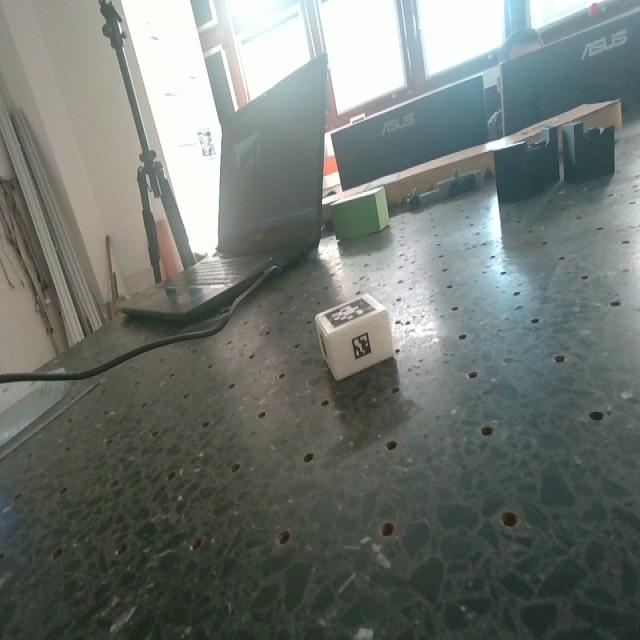Cube: (314, 292, 391, 380)
